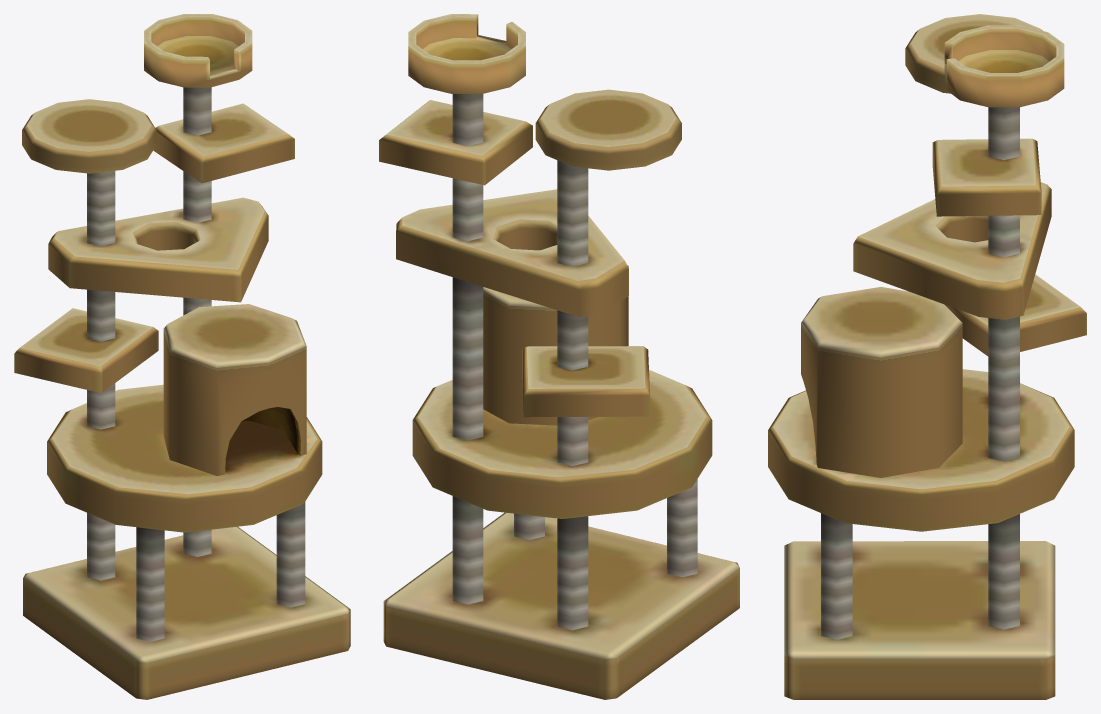
The model's file is int_oth_cattower.dae.
3 views of the same model, side by side, from view 1: azimuth 30°, elevation 25°; view 2: azimuth 150°, elevation 25°; view 3: azimuth 270°, elevation 25° (orthographic). The views are drawn at different scales.
Parts seen in each view (by area): view 1: int_oth_cattower; view 2: int_oth_cattower; view 3: int_oth_cattower.
Part boxes in pixels (<box>): int_oth_cattower: <box>14,14,350,699</box>; int_oth_cattower: <box>379,14,739,699</box>; int_oth_cattower: <box>768,14,1086,699</box>.
Bounding box in the file's own units: 30.71 × 66 × 30.89.
Materials: 3 (3 with a texture image).
